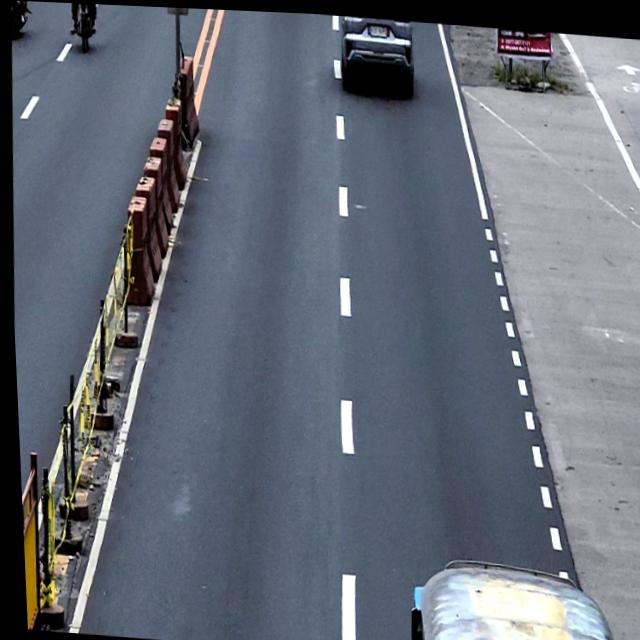Car: (336, 12, 415, 90)
Jeep: (400, 549, 622, 640)
License-Plate: (367, 19, 387, 34)
Motorcycle: (68, 2, 100, 52)
